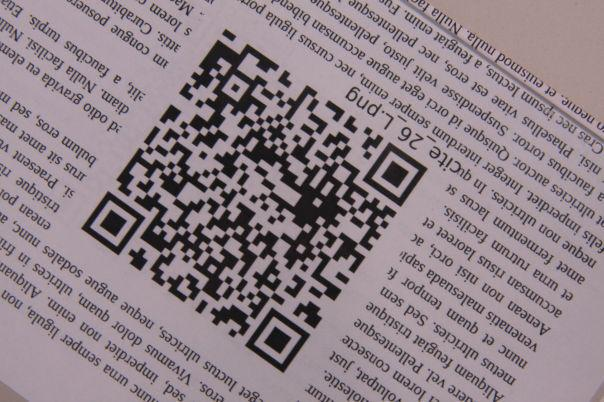Finder pattern: (80, 190, 144, 255), (246, 308, 310, 373), (365, 143, 429, 206)
